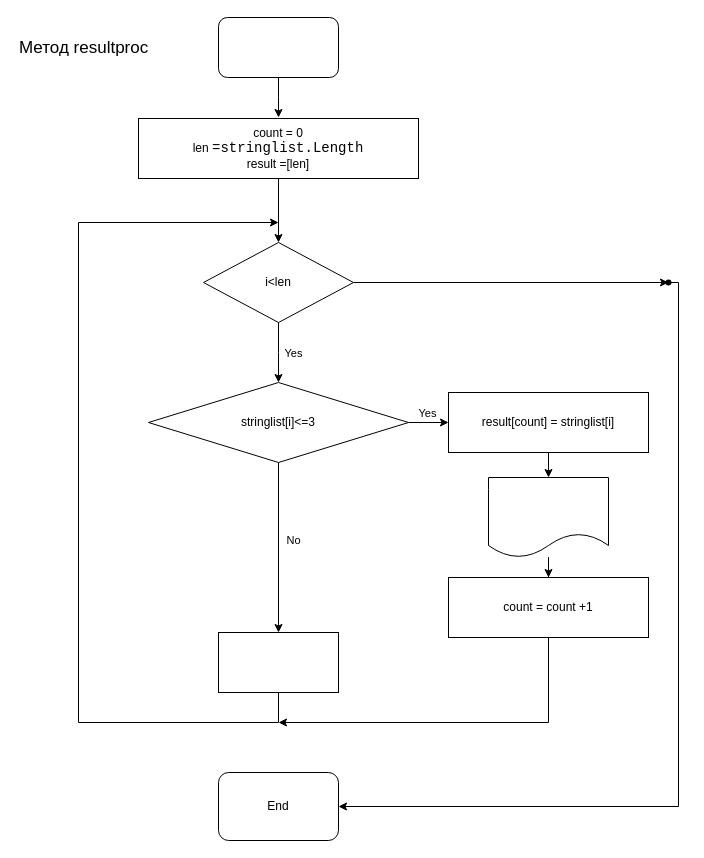
The diagram is 704 pixels wide and 858 high, and some of its shapes have lost their labels. The shapes that lost their labels are listed below. From the top down, each one's centre as x and y in pixels, then its label:
At [278,47]: "start".
At [548,517]: "print(result[count])".
At [278,662]: "i = i+1".
